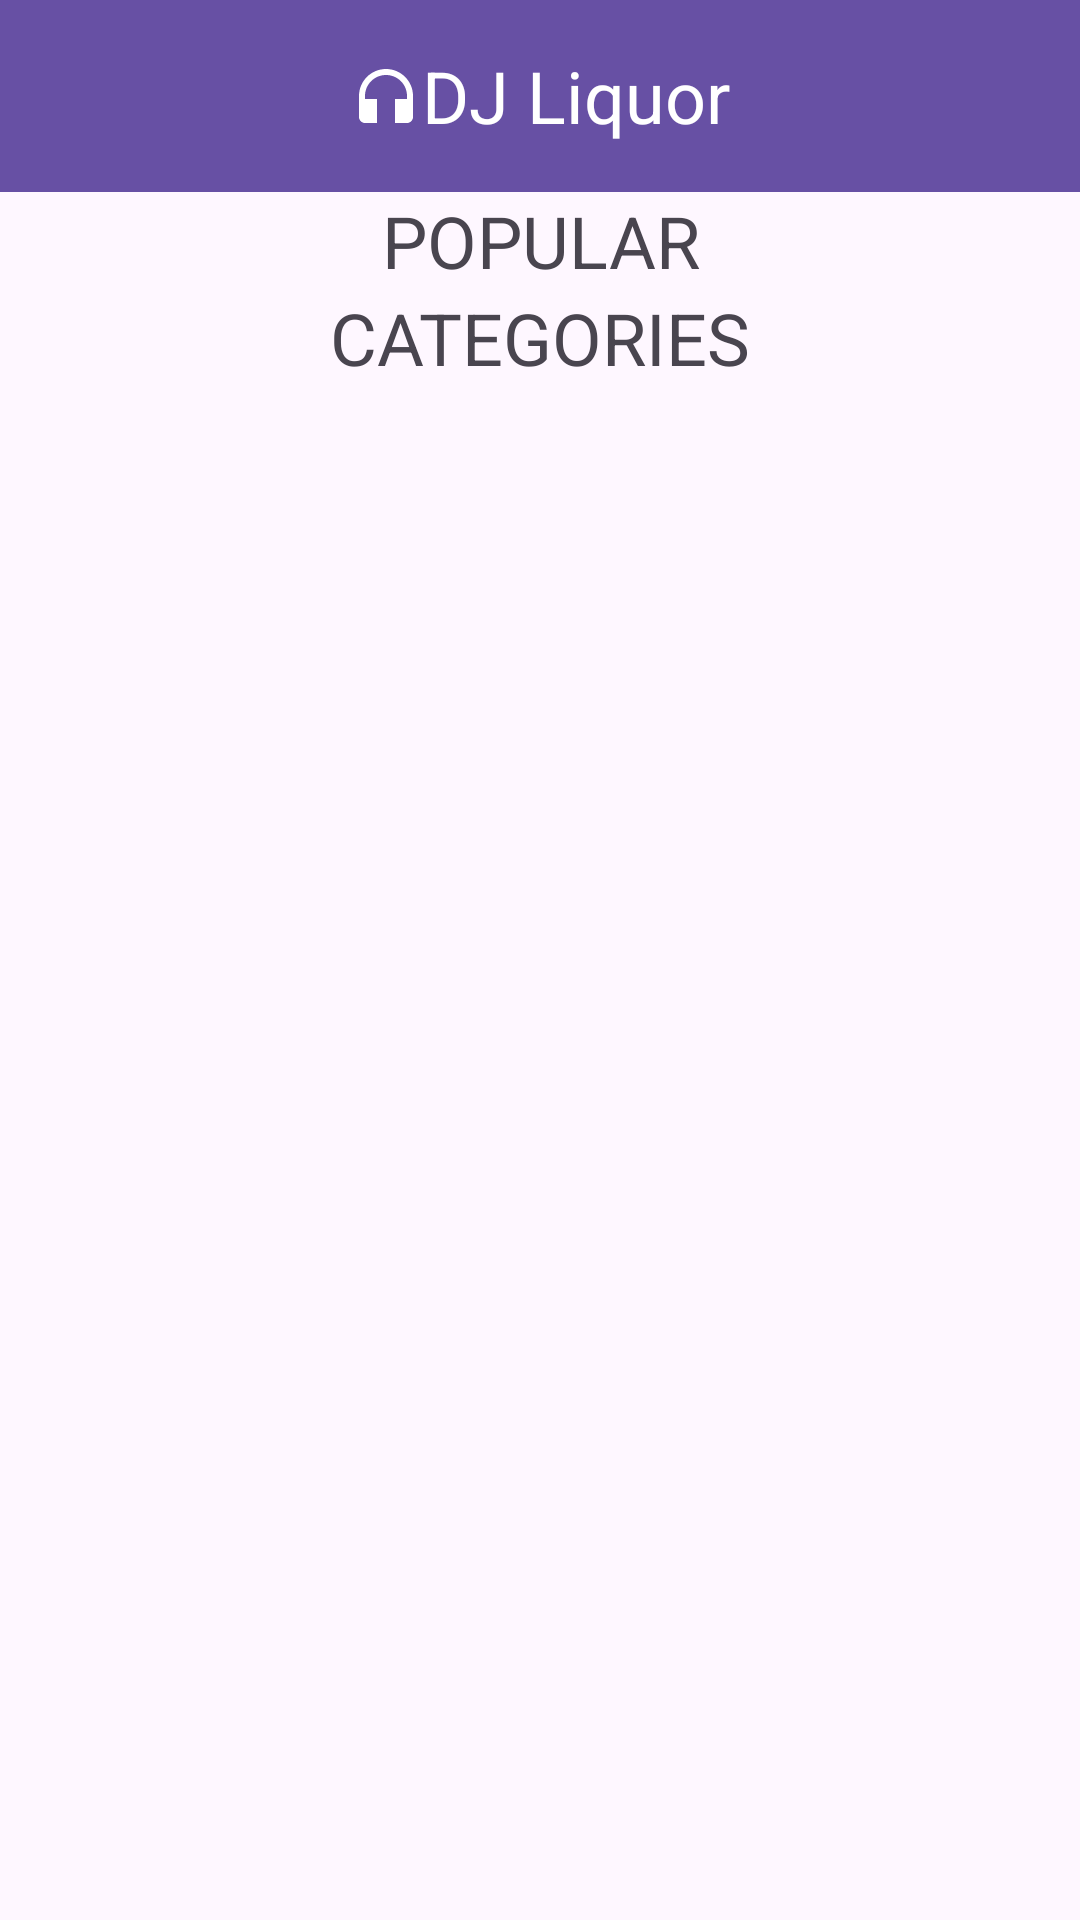

Where to tap for icons on this 1080px x 1920px app screen, as point (x, y):
headphones: point (386, 96)
